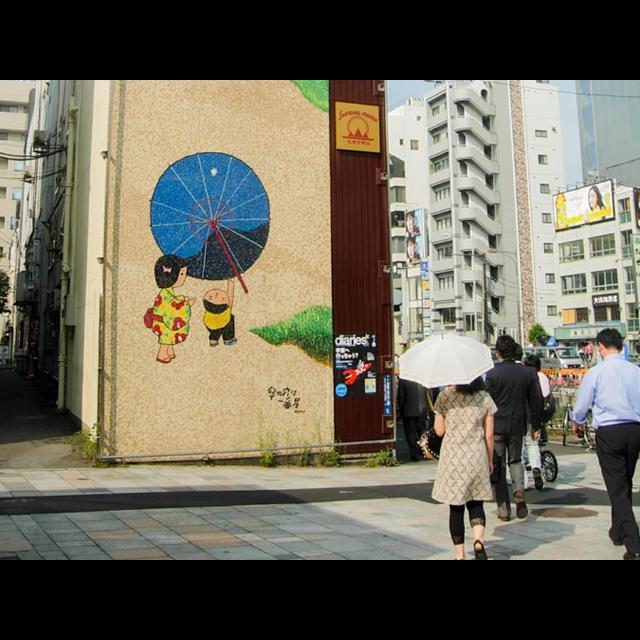head: (597, 329, 625, 361), (456, 362, 480, 386), (496, 336, 516, 360), (525, 356, 541, 374), (511, 344, 524, 361), (406, 363, 418, 375)
person: (480, 332, 546, 524), (498, 341, 548, 497), (514, 352, 556, 472), (396, 352, 430, 464)
